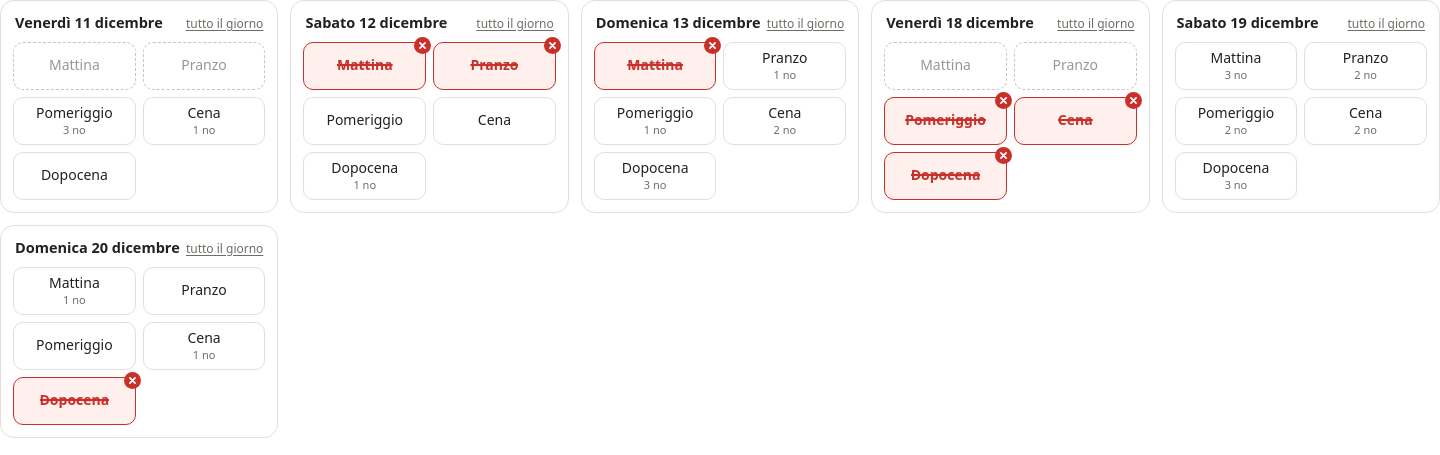
VoteTable, with the names open › closes them at a tap on a day, without marking the day
The image size is (1440, 455).
Press the mouse on the button with aria-label "domenica 13, cena" at (785, 121), box x1=724 y1=97 x2=846 y2=145
Wait 500 ms
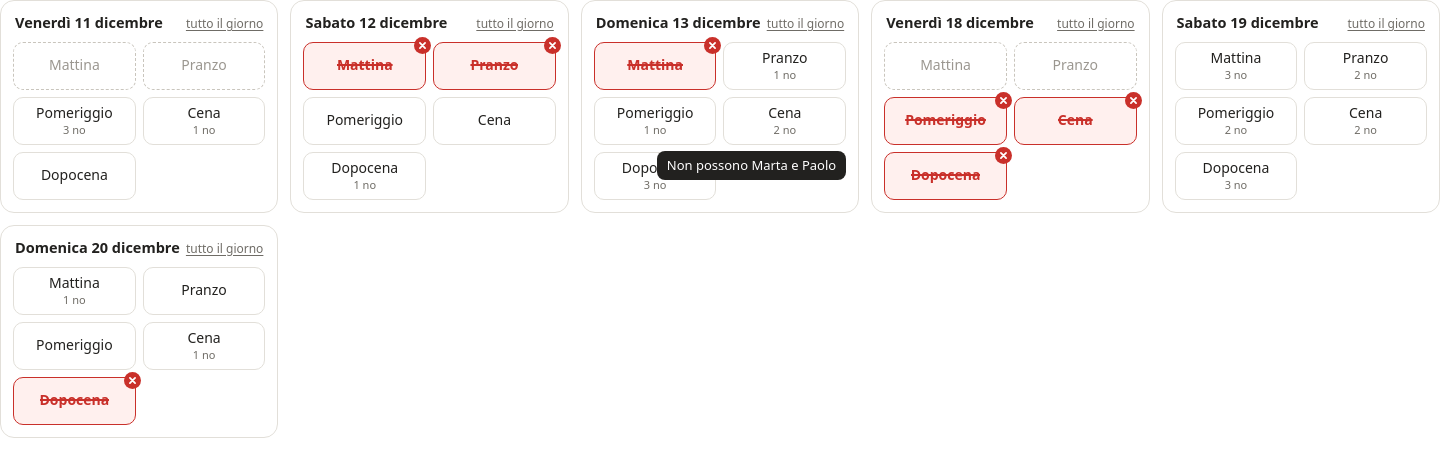
Click the button with aria-label "sabato 19: segna tutto il giorno". click: (1386, 24)
box: x1=1348 y1=16 x2=1425 y2=33
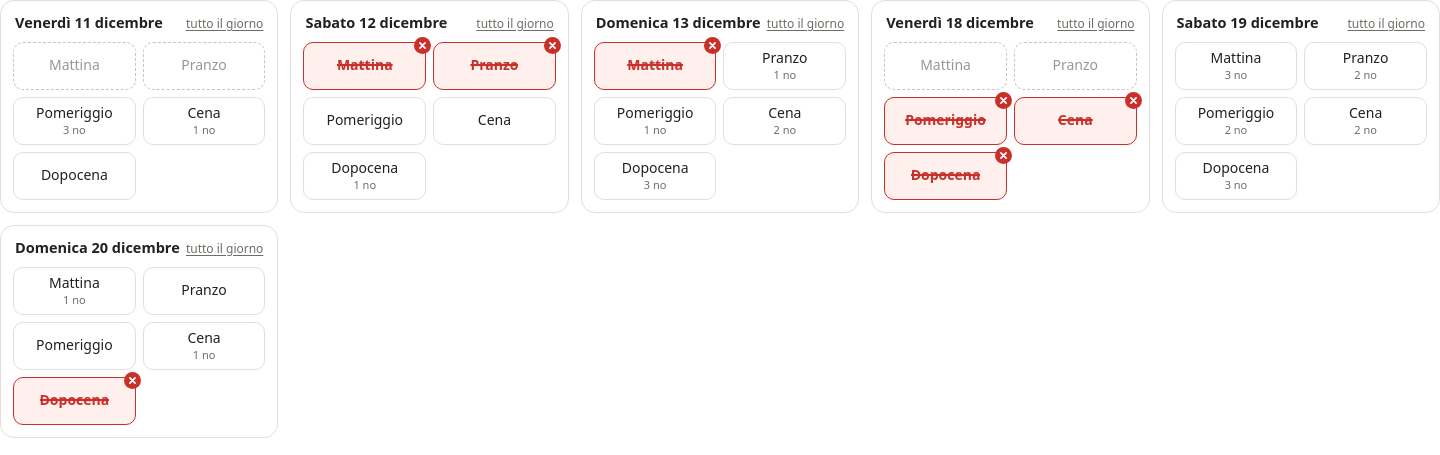
Check: the message "Non possono Marta e Paolo" is gone
